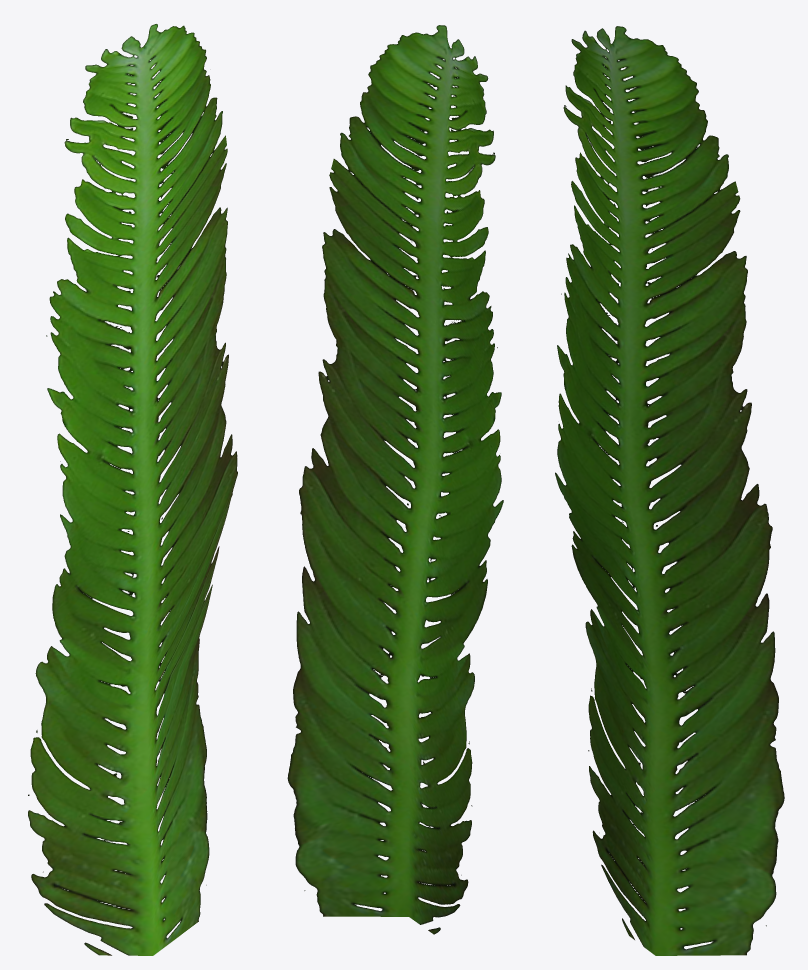
3 renders of one model, left to right at view 1: azimuth 30°, elevation 25°; view 2: azimuth 150°, elevation 25°; view 3: azimuth 330°, elevation 25°, orthographic. The views are drawn at different scales.
Visible parts, largest first — view 1: Caulerpa_Taxifolia.001; view 2: Caulerpa_Taxifolia.001; view 3: Caulerpa_Taxifolia.001.
Part boxes in pixels (<box>): Caulerpa_Taxifolia.001: <box>28,24,237,955</box>; Caulerpa_Taxifolia.001: <box>287,25,503,934</box>; Caulerpa_Taxifolia.001: <box>555,26,784,955</box>.
Size of the model in its own units: 0.0308 by 0.1216 by 0.0145.
1 material, 1 textured.
